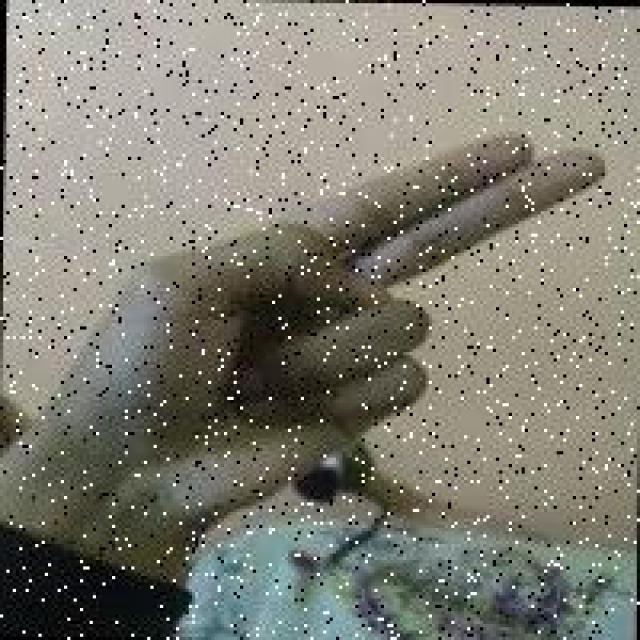H: (61, 115, 614, 541)
